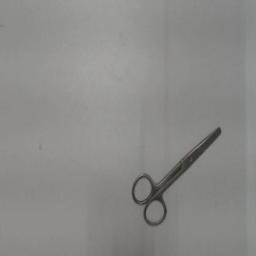Dressing Scissors: (126, 116, 230, 232)
